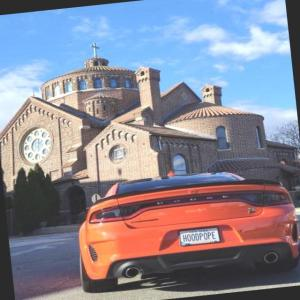Plate: (178, 226, 220, 247)
